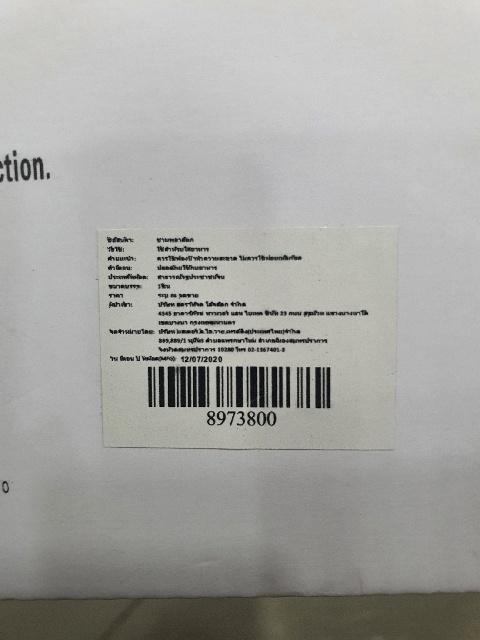Barcode: (140, 356, 344, 428)
